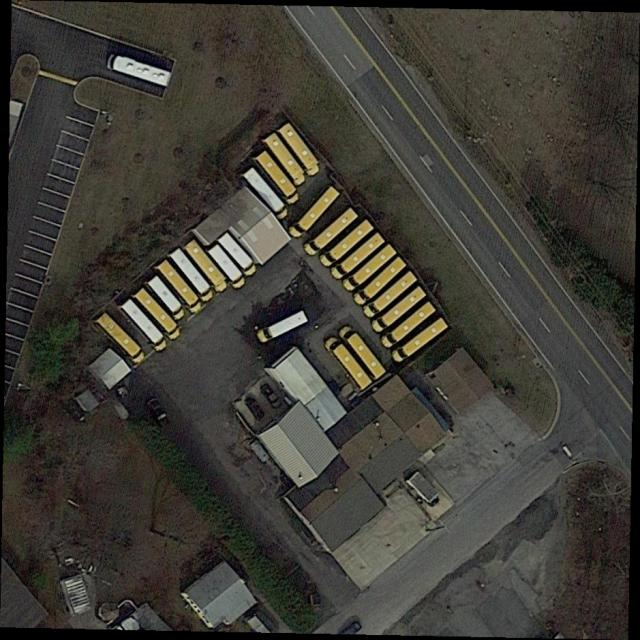large-vehicle: (289, 186, 341, 240), (320, 219, 375, 270), (95, 312, 147, 365), (304, 208, 359, 258), (371, 286, 427, 335), (154, 259, 203, 315), (331, 232, 385, 282), (324, 336, 373, 391), (354, 256, 406, 307), (343, 244, 397, 293), (255, 150, 303, 205), (363, 271, 418, 319), (392, 318, 448, 365), (103, 52, 172, 90), (382, 302, 436, 350), (134, 288, 183, 340), (243, 167, 291, 220), (121, 299, 169, 352), (184, 239, 230, 294), (340, 325, 386, 379), (170, 248, 215, 303), (264, 132, 309, 186), (279, 122, 322, 177), (218, 232, 258, 278), (257, 310, 309, 345), (209, 244, 248, 290), (148, 276, 187, 321), (407, 468, 443, 509)
small-vehicle: (243, 396, 269, 427), (258, 382, 284, 412), (144, 394, 169, 425)
